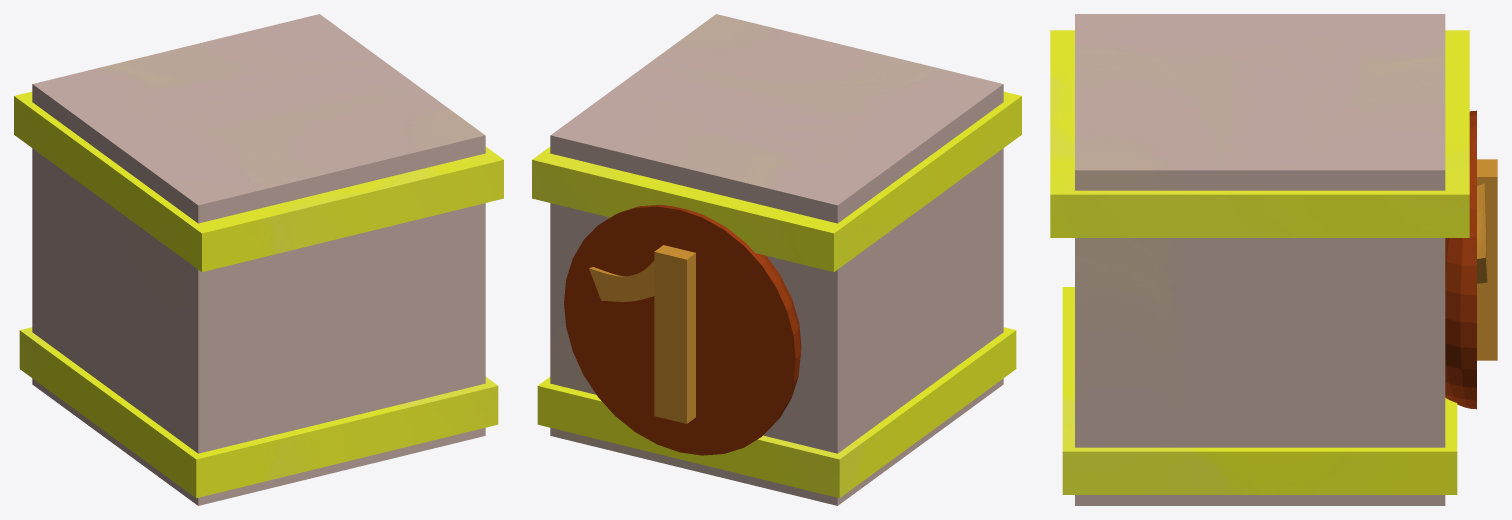
Rendered from stageSelect1.obj.
3 views of the same model, side by side, from view 1: azimuth 30°, elevation 25°; view 2: azimuth 150°, elevation 25°; view 3: azimuth 270°, elevation 25° (orthographic). The views are drawn at different scales.
Parts seen in each view (by area): view 1: 立方体.004; view 2: 立方体.004; view 3: 立方体.004.
Boxes of the visible parts, x1,y1,x2,y2 form: 立方体.004: (14, 14, 503, 505); 立方体.004: (532, 14, 1021, 505); 立方体.004: (1050, 14, 1497, 505).
Bounding box in the file's own units: 1.05 × 1 × 1.21.
Materials: 1 (1 with a texture image).
